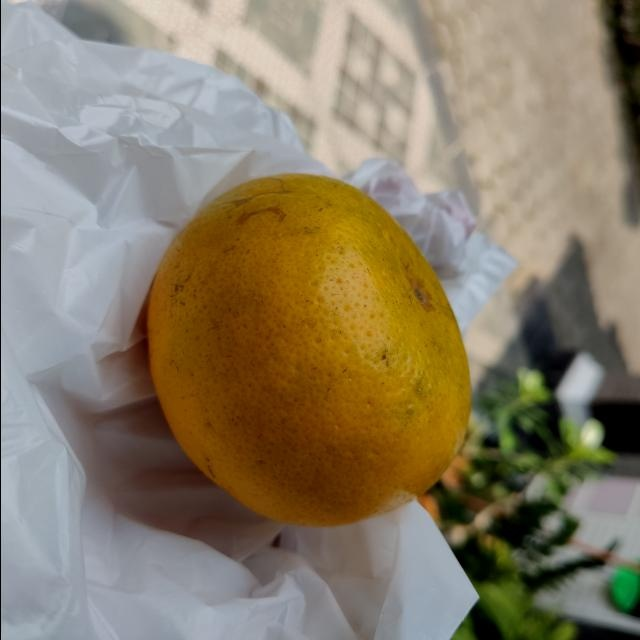agrume: (136, 170, 473, 533)
